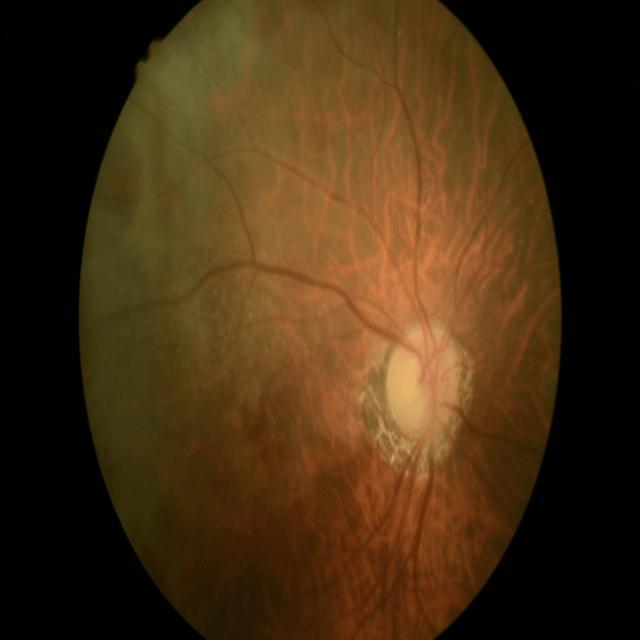cup: (398, 351, 444, 424)
disk: (388, 326, 460, 444)
